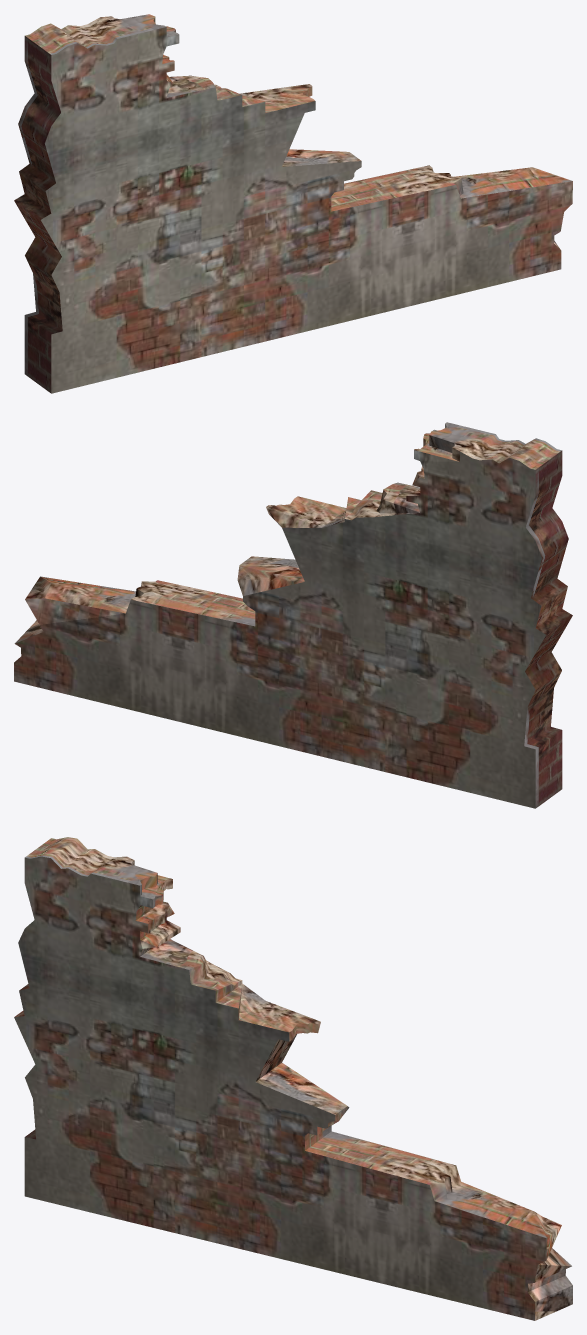
The model's file is Brick_Wall_3.fbx.
The picture shows the model from 3 angles, top to bottom: view 1: azimuth 30°, elevation 25°; view 2: azimuth 150°, elevation 25°; view 3: azimuth 330°, elevation 25°; orthographic projection.
Parts seen in each view (by area): view 1: wall.002; view 2: wall.002; view 3: wall.002.
Part boxes in pixels (x1=…): wall.002: x1=14, y1=14, x2=572, y2=393; wall.002: x1=14, y1=422, x2=572, y2=808; wall.002: x1=14, y1=837, x2=572, y2=1320.
Bounding box in the file's own units: 361 × 223 × 31.24.
